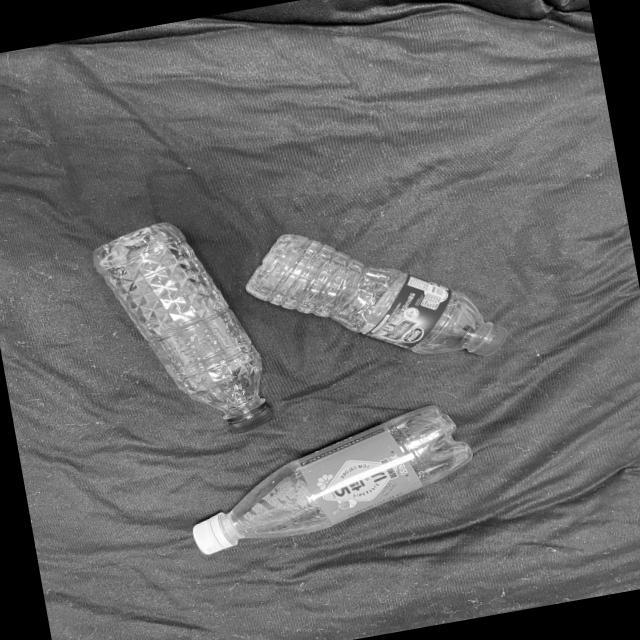good: (160, 387, 492, 581), (68, 191, 304, 450), (228, 214, 529, 370)
